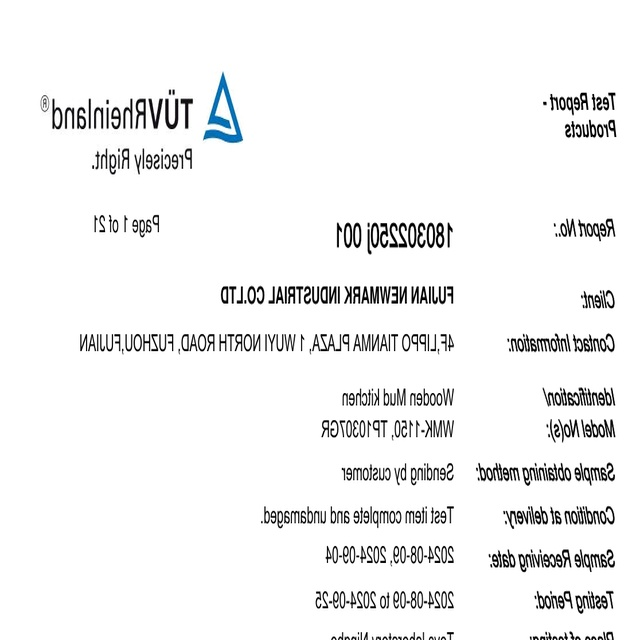tuv_rheinland: (36, 68, 250, 147)
